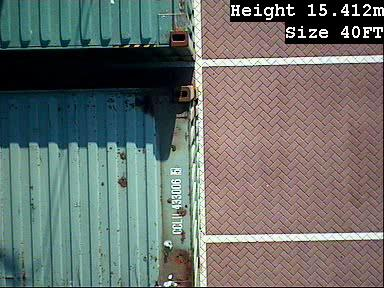groundmarker_2: (105, 152, 164, 189), (102, 4, 160, 41)
